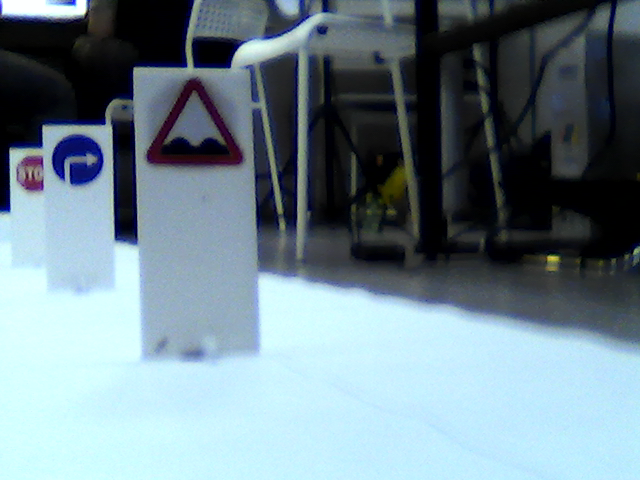Nerov: (147, 74, 245, 169)
Right: (48, 129, 104, 183)
